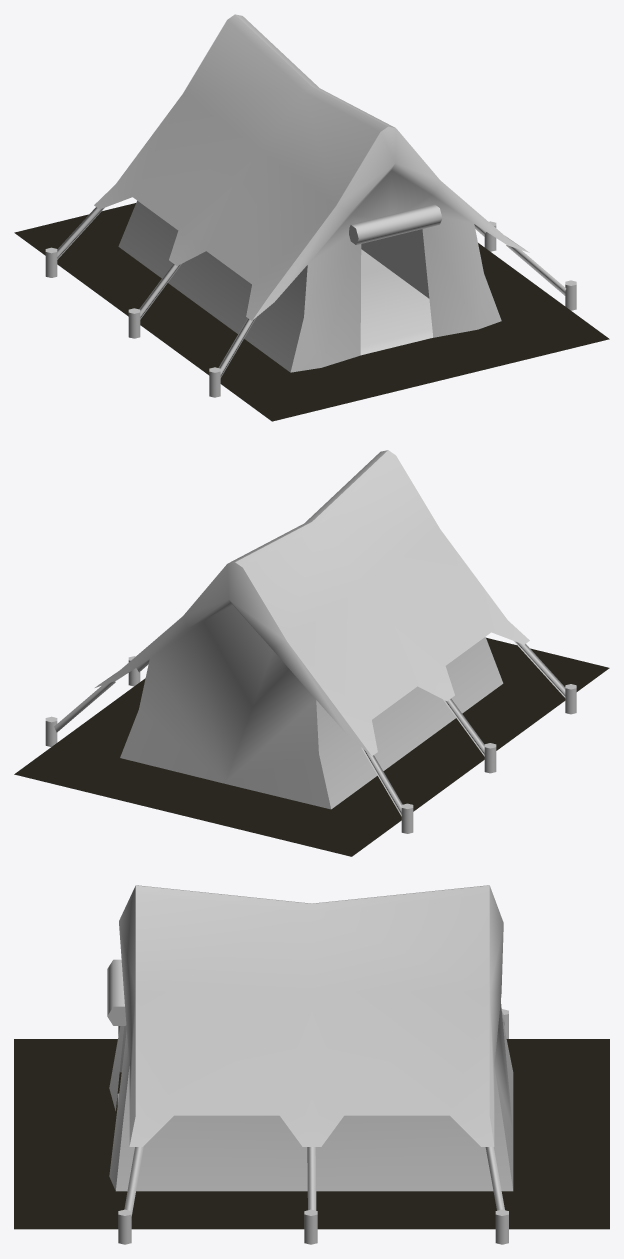
Rendered from Camp_01.FBX.
3 renders of one model, top to bottom at view 1: azimuth 30°, elevation 25°; view 2: azimuth 150°, elevation 25°; view 3: azimuth 270°, elevation 25°, orthographic. The views are drawn at different scales.
Parts seen in each view (by area): view 1: Plane035, Plane036; view 2: Plane035, Plane036; view 3: Plane035, Plane036.
Part boxes in pixels (x1,y1,x2,y2): Plane035: (45, 14, 576, 397); Plane036: (14, 203, 609, 421); Plane035: (45, 450, 576, 833); Plane036: (14, 637, 609, 856); Plane035: (107, 885, 513, 1244); Plane036: (14, 1039, 609, 1229).
Bounding box in the file's own units: 478 × 275 × 582.
